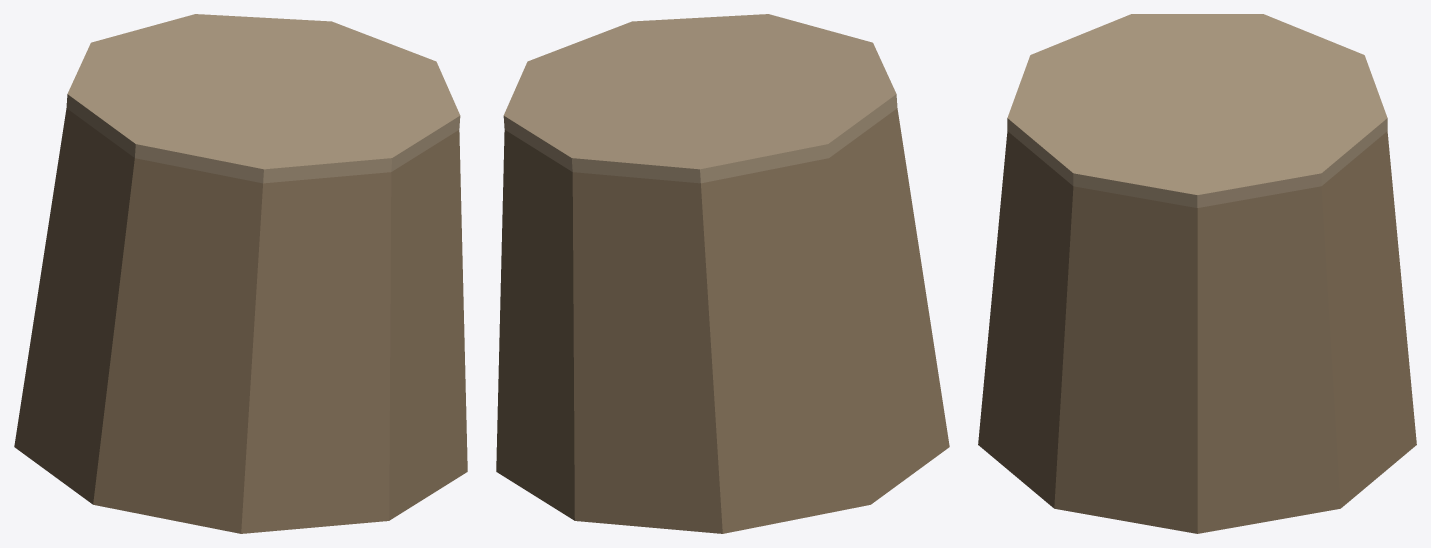
File: nature_stump_01.glb
3 views of the same model, side by side, from view 1: azimuth 30°, elevation 25°; view 2: azimuth 150°, elevation 25°; view 3: azimuth 270°, elevation 25° (orthographic). The views are drawn at different scales.
Visible parts, largest first — view 1: geometry_0; view 2: geometry_0; view 3: geometry_0.
Part boxes in pixels (x1=…): geometry_0: x1=14, y1=14, x2=467, y2=533; geometry_0: x1=496, y1=14, x2=949, y2=533; geometry_0: x1=978, y1=14, x2=1416, y2=533.
Size of the model in its own units: 0.7871 by 0.726 by 0.8011.
